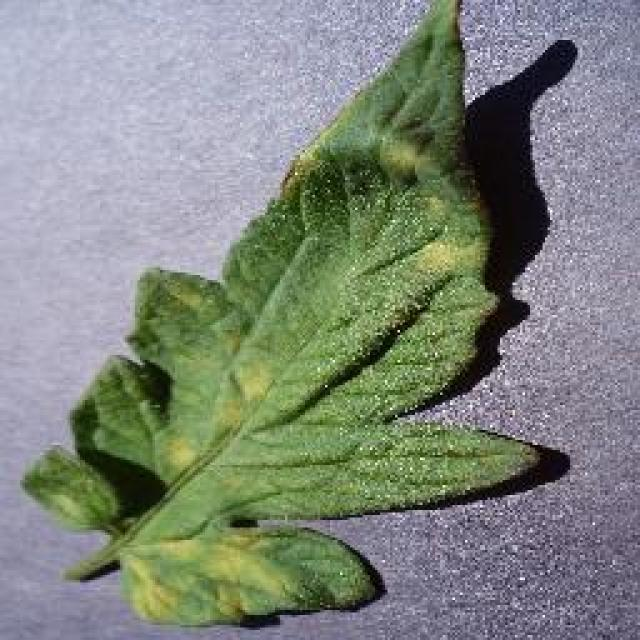Tomato mold leaf: (20, 0, 540, 632)
